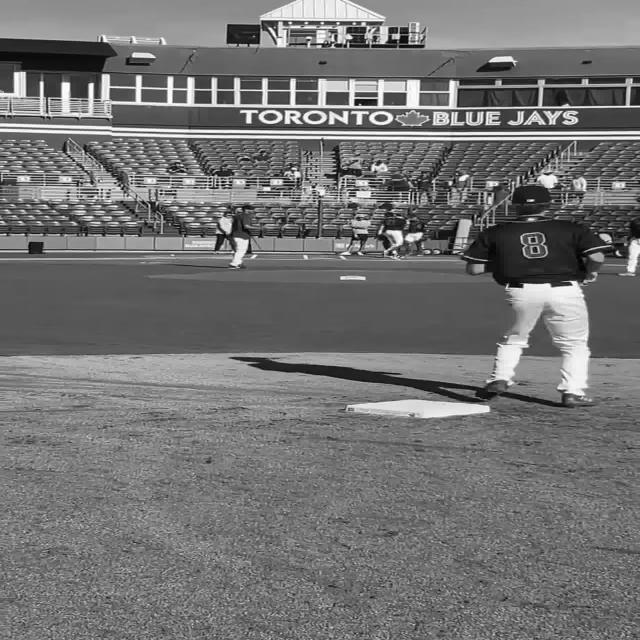base: (344, 400, 493, 418)
shoe: (560, 393, 595, 406), (483, 379, 511, 394), (228, 263, 247, 269), (616, 272, 634, 276), (338, 251, 350, 255), (356, 252, 364, 256)
